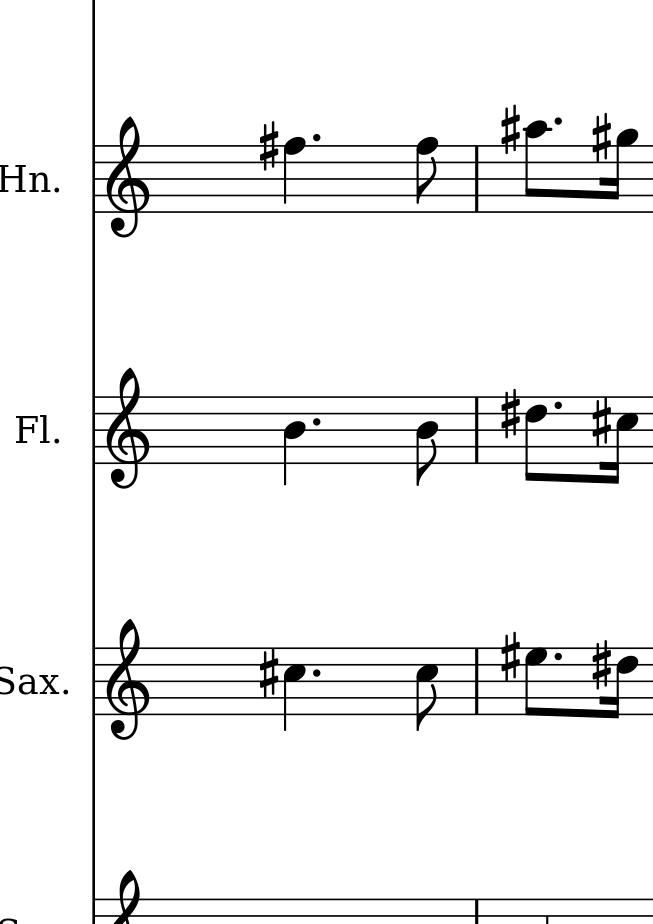16_5: (603, 394, 641, 488)
16_6: (602, 644, 640, 723)
16_9: (601, 129, 640, 216)
4_4: (281, 394, 309, 487)
4_5: (283, 642, 306, 731)
4_8: (281, 135, 306, 215)
8_10: (522, 119, 550, 215)
8_4: (413, 392, 442, 493)
8_5: (413, 645, 442, 733)
8_6: (523, 394, 549, 486)
8_7: (523, 643, 550, 721)
8_8: (414, 136, 442, 214)
Fl: (12, 409, 55, 451)
Gclef: (104, 618, 154, 746), (103, 367, 152, 492), (107, 115, 150, 239)
Hn: (1, 161, 50, 201)
Sax: (1, 664, 57, 704)
Sharp: (588, 111, 616, 166), (498, 102, 521, 161), (498, 628, 521, 685), (589, 640, 615, 690), (257, 116, 281, 170), (589, 395, 610, 448), (258, 649, 280, 697), (501, 388, 520, 441)
Single_barline: (468, 650, 485, 712), (86, 649, 102, 714), (469, 146, 485, 211), (87, 146, 102, 213), (469, 397, 484, 462), (87, 396, 101, 464)
dot: (310, 665, 323, 679), (552, 115, 563, 129), (310, 132, 322, 144), (310, 416, 322, 428), (551, 650, 562, 663), (552, 399, 563, 412)
